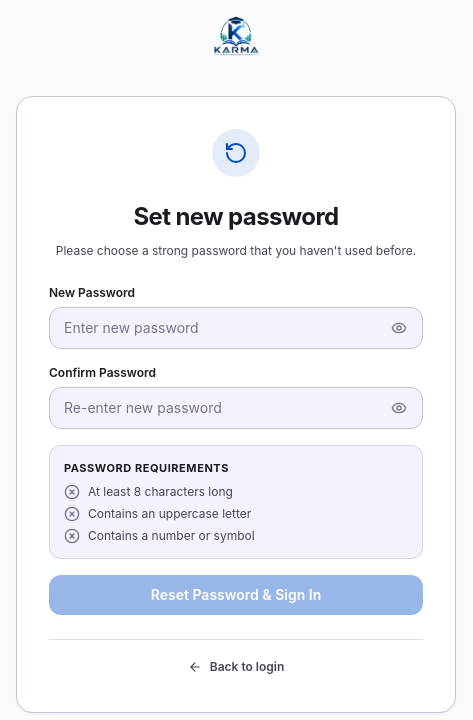
Test: Secondary Auth & Onboarding Flows (Stitch Screens 08, 10, 06) › ResetPasswordPage (Screen 10) › renders password checklist and validates live criteria
Expected: the heading "Set new password" is shown, [133,202,339,231]
Expected: the password field with placeholder "Re-enter new password" is shown, [49,386,423,428]
Type "KarmaAdmin2026!" into the password field with placeholder "Enter new password" at (236, 328), box [49,306,423,348]
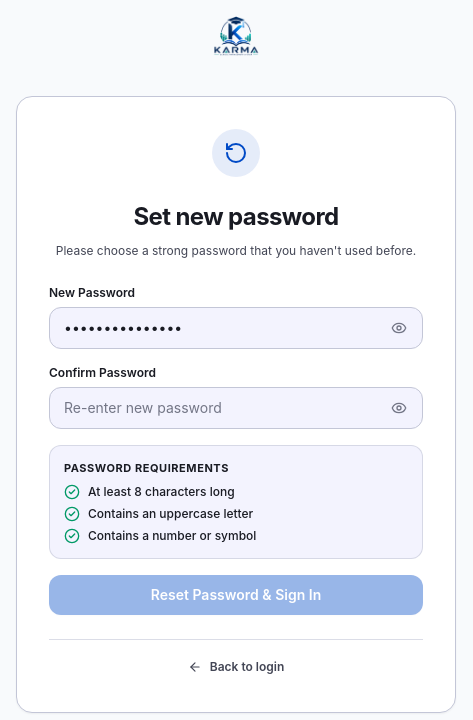
Type "KarmaAdmin2026!" into the password field with placeholder "Re-enter new password" at (236, 408), box [49,386,423,428]
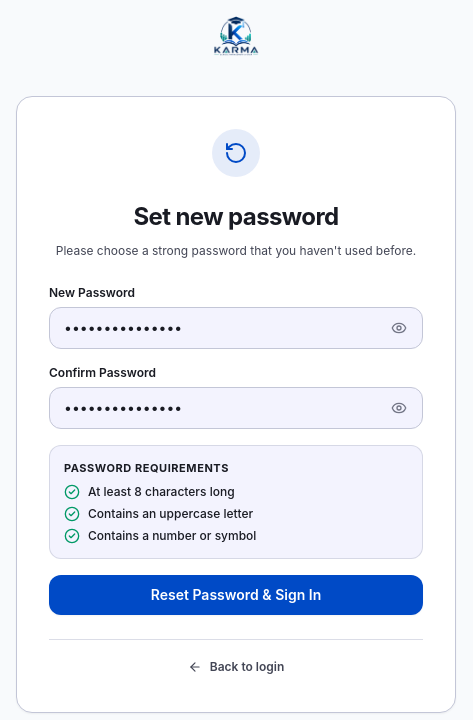
Expected: the button "Reset Password & Sign In" is enabled, [49,575,423,615]
